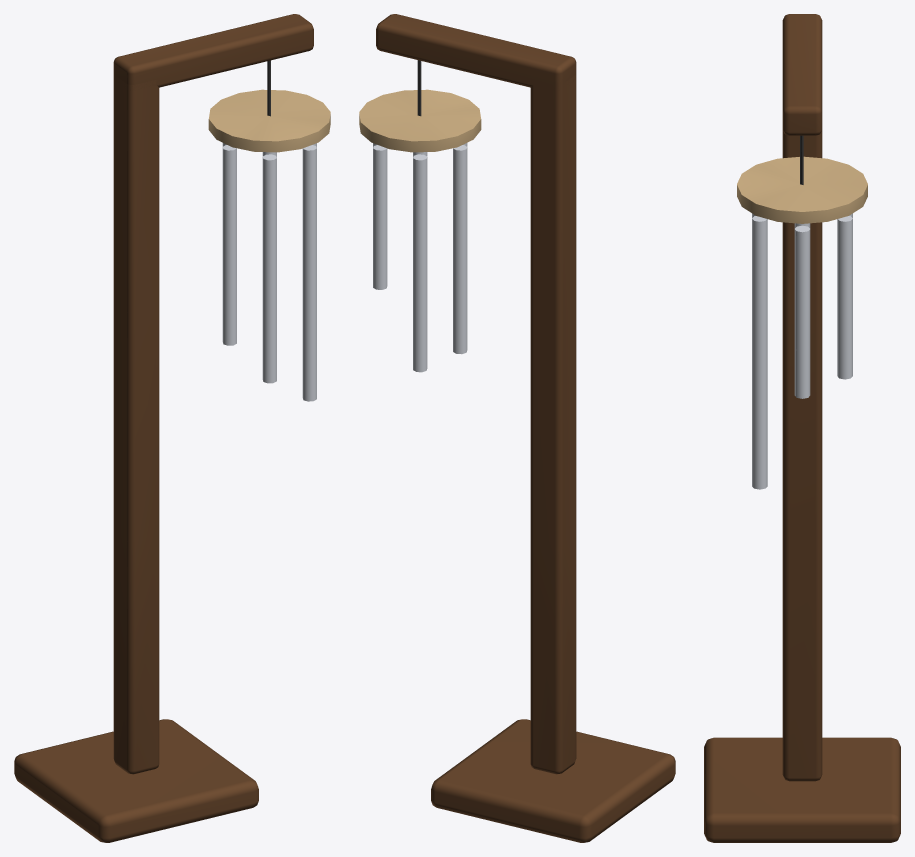
Rendered from furn_od_chimes.glb.
3 views of the same model, side by side, from view 1: azimuth 30°, elevation 25°; view 2: azimuth 150°, elevation 25°; view 3: azimuth 270°, elevation 25° (orthographic). The views are drawn at different scales.
Visible parts, largest first — view 1: furn_od_chimes_main, furn_od_chimes_move; view 2: furn_od_chimes_main, furn_od_chimes_move; view 3: furn_od_chimes_main, furn_od_chimes_move.
Boxes of the visible parts, x1=… form: furn_od_chimes_main: x1=14, y1=14, x2=313, y2=842; furn_od_chimes_move: x1=208, y1=60, x2=330, y2=401; furn_od_chimes_main: x1=376, y1=14, x2=675, y2=842; furn_od_chimes_move: x1=359, y1=60, x2=481, y2=372; furn_od_chimes_main: x1=704, y1=14, x2=900, y2=842; furn_od_chimes_move: x1=737, y1=135, x2=867, y2=489.
Size of the model in its own units: 0.5 by 1.32 by 0.3.
